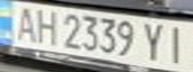2: (57, 10, 84, 49)
3: (78, 12, 100, 53), (97, 16, 118, 55)
9: (115, 17, 139, 59)
A: (6, 3, 39, 43)
H: (30, 7, 60, 46)
I: (160, 22, 193, 65)
Y: (139, 19, 172, 63)
